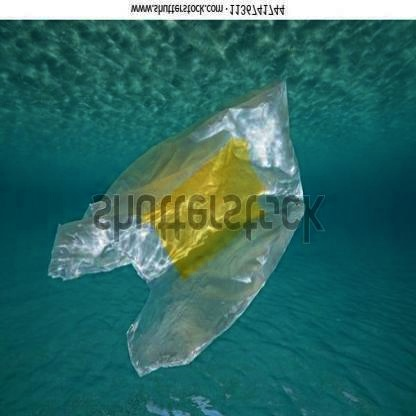pbag: (42, 73, 310, 376)
